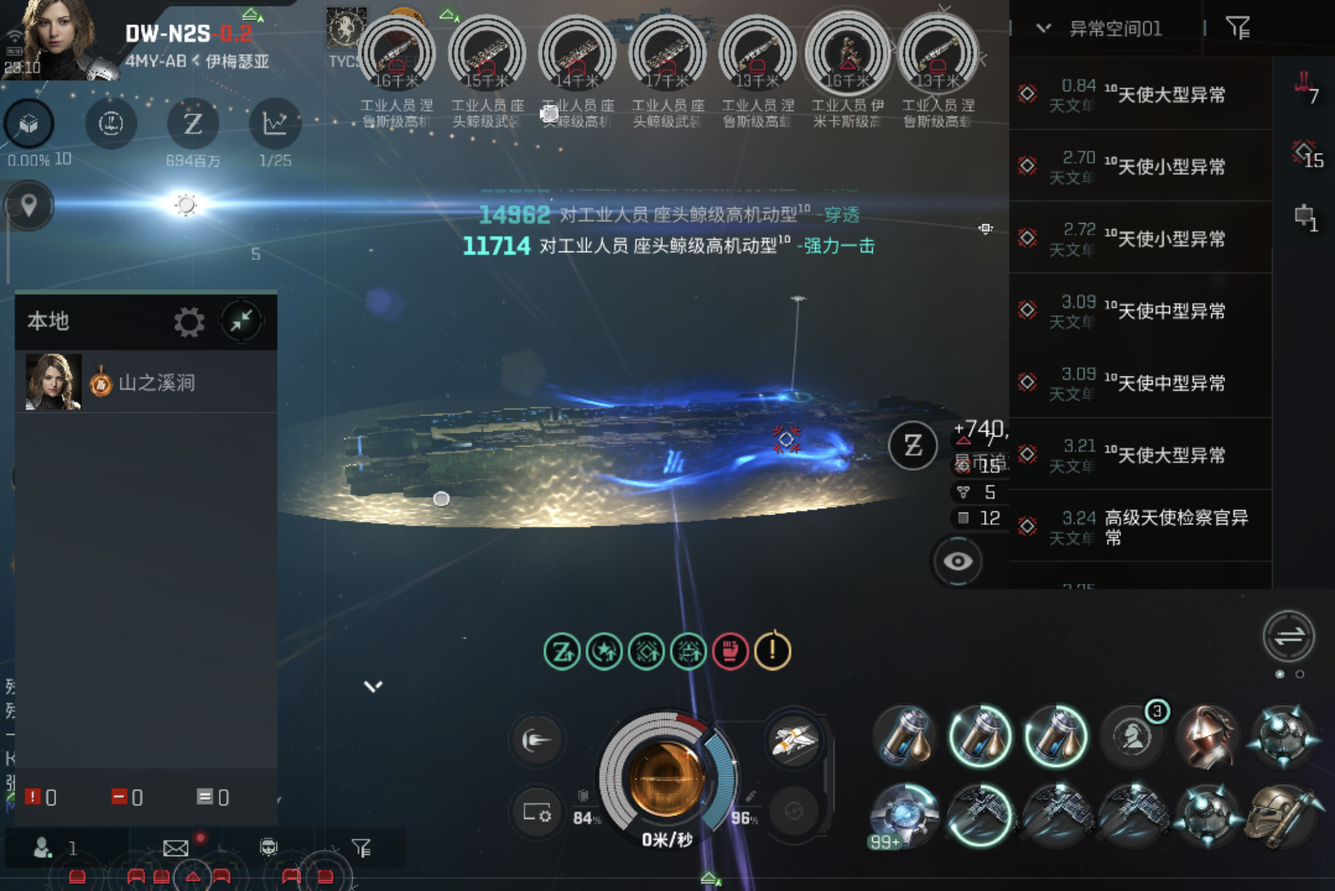enemy_monster: (928, 55, 951, 78), (386, 55, 408, 77), (839, 55, 860, 75), (479, 55, 497, 77), (658, 58, 681, 75), (746, 58, 769, 74), (570, 57, 587, 75)
